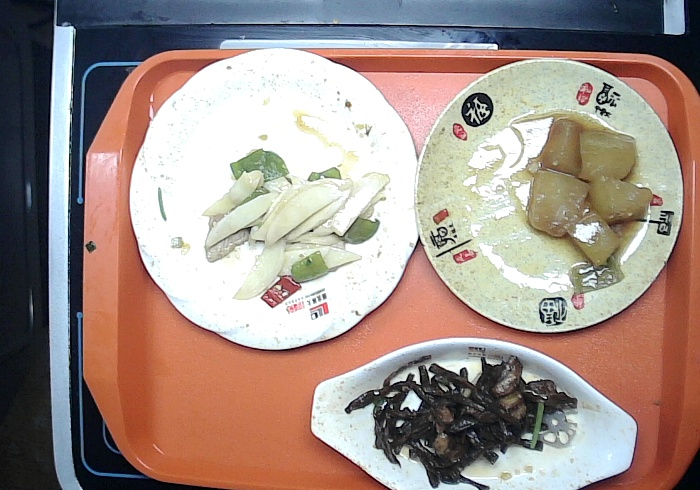NLDX-Bai_Zhe_Yuan_Pan: (120, 44, 424, 354)
NLDX-Fu_Zi_Yuan_Pan: (410, 53, 689, 337)
NLDX-Yu_Pan: (305, 334, 641, 490)
